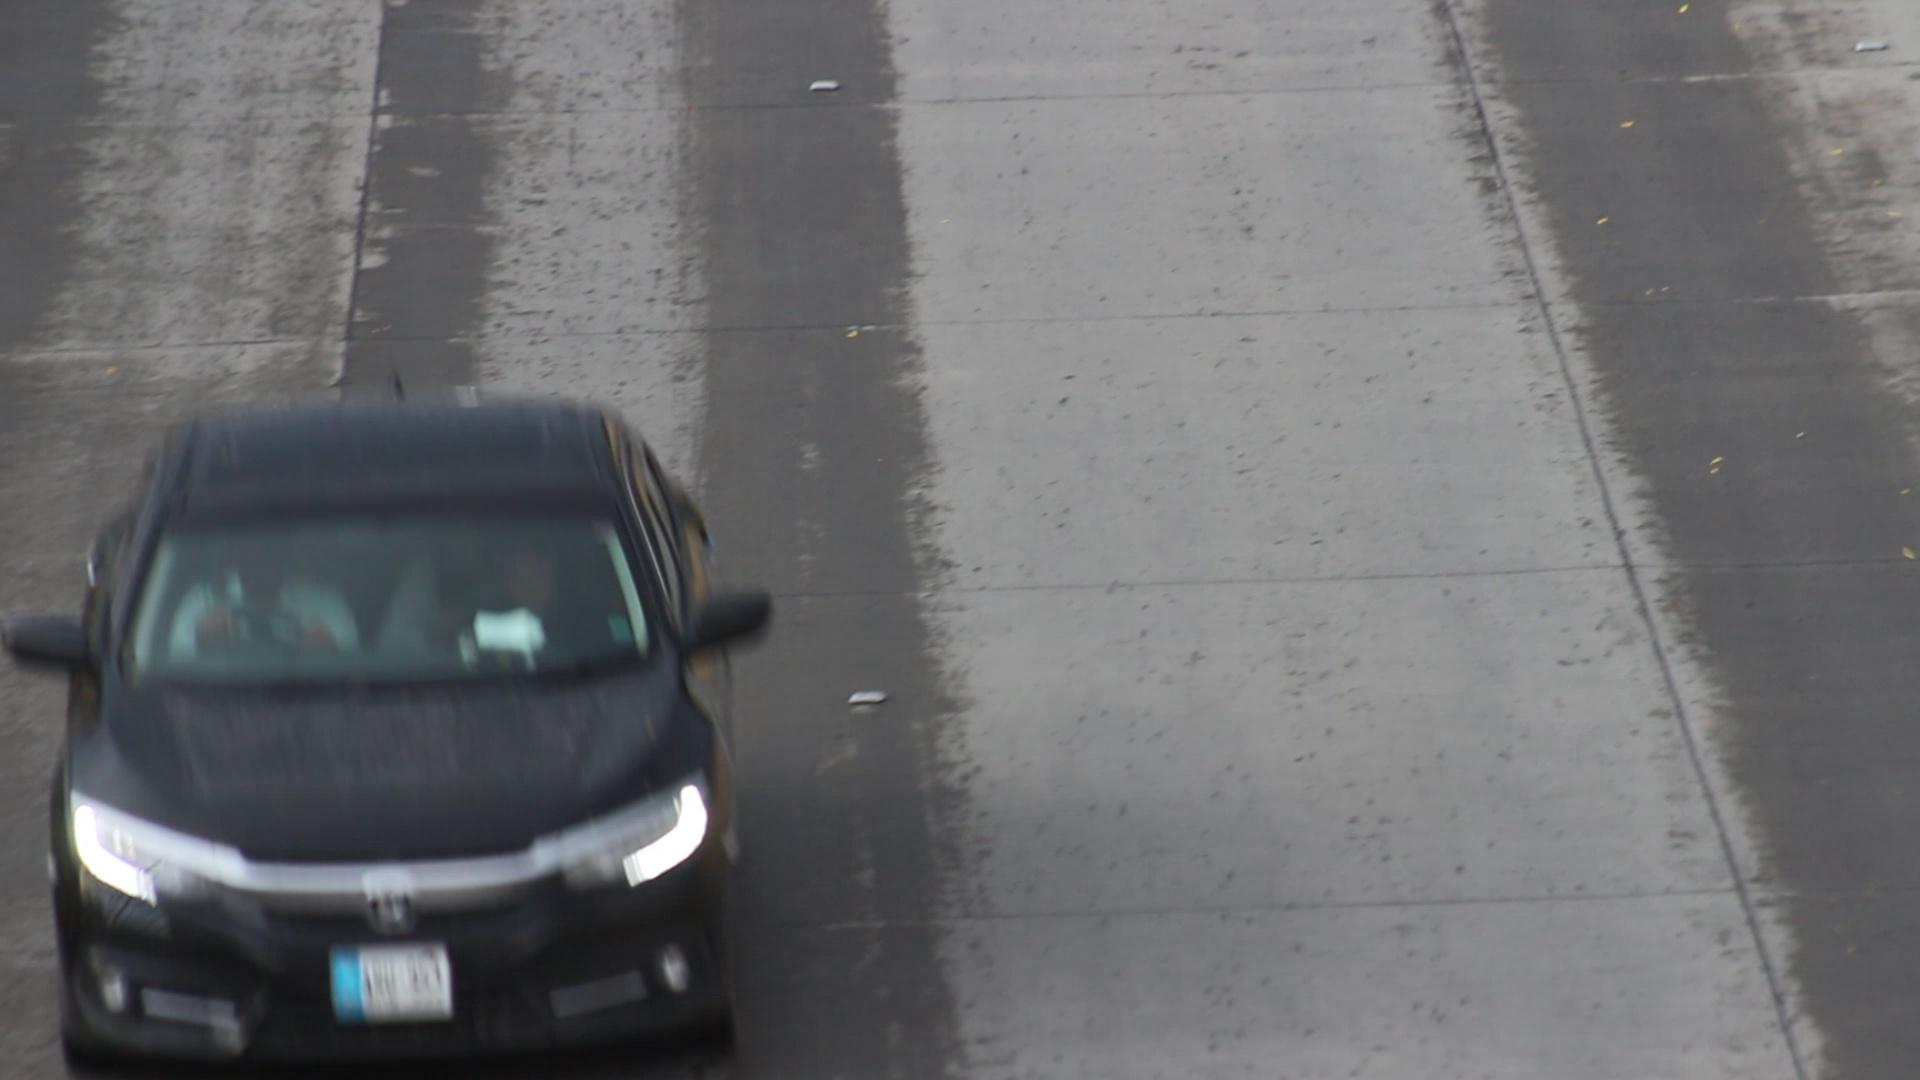windshield: (124, 506, 658, 670)
